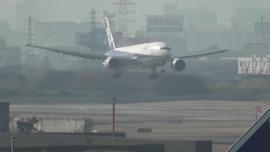aircraft: (24, 16, 228, 79)
